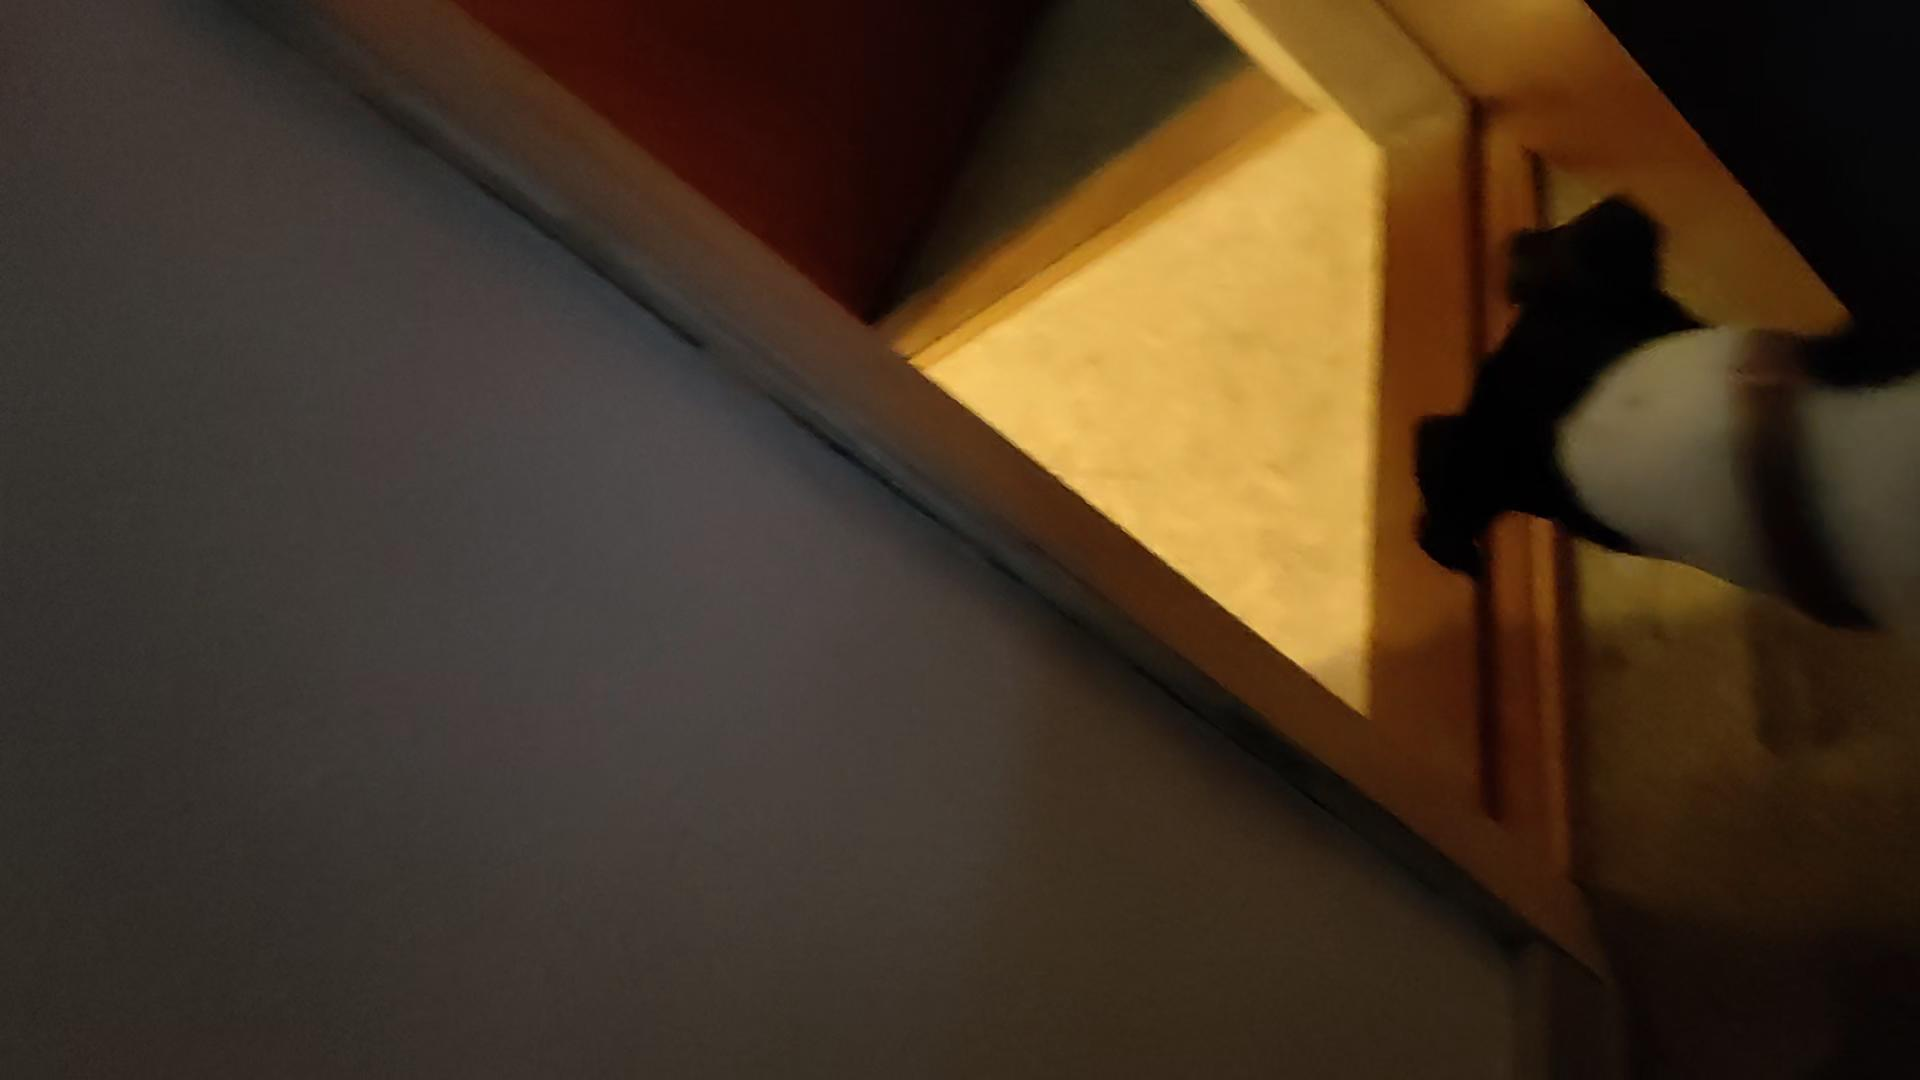Dog: (1353, 174, 1919, 655)
